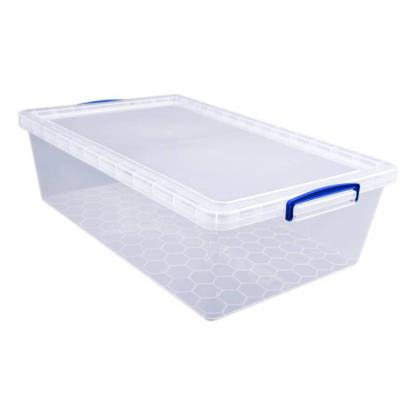plastic_box: (12, 51, 410, 339)
